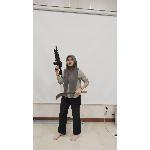Golok: (55, 90, 89, 100)
Senapan: (51, 44, 65, 78)
